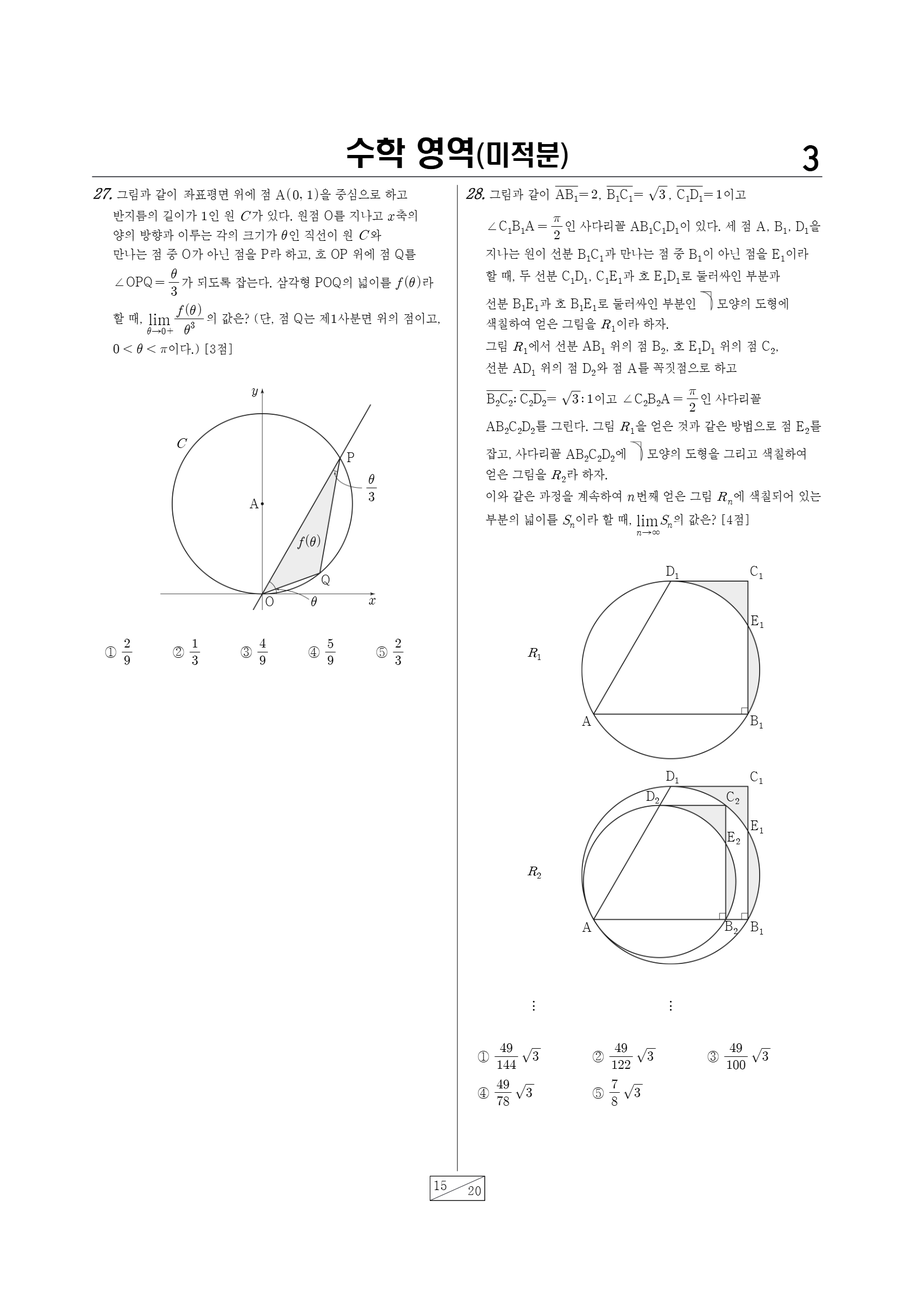opt_1: (103, 643, 120, 658), (478, 1049, 489, 1062)
opt_2: (172, 645, 184, 658), (592, 1050, 604, 1062)
opt_3: (707, 1049, 719, 1063), (240, 645, 252, 658)
opt_4: (308, 644, 319, 659), (477, 1086, 489, 1099)
opt_5: (592, 1086, 604, 1099), (375, 645, 387, 658)
